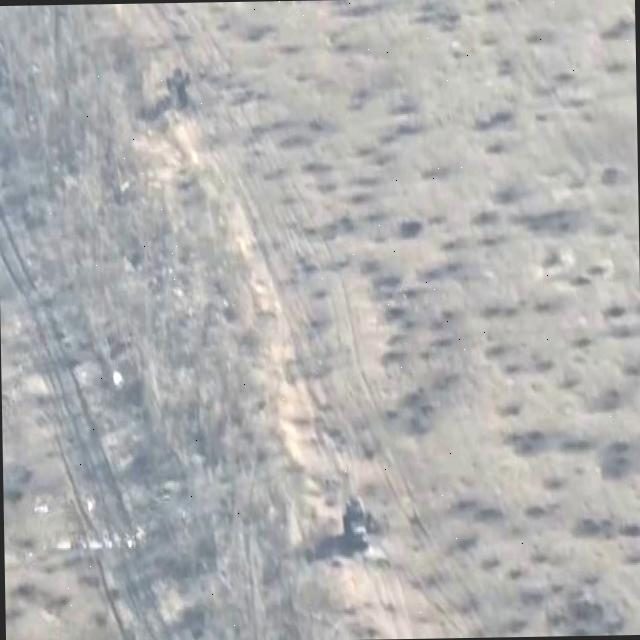Vehicle: (341, 494, 369, 550), (165, 68, 193, 109)
